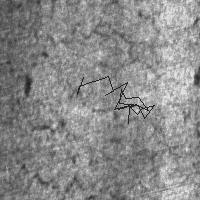crazing: (42, 7, 176, 84), (7, 97, 161, 146), (4, 154, 92, 196), (77, 76, 154, 123)
